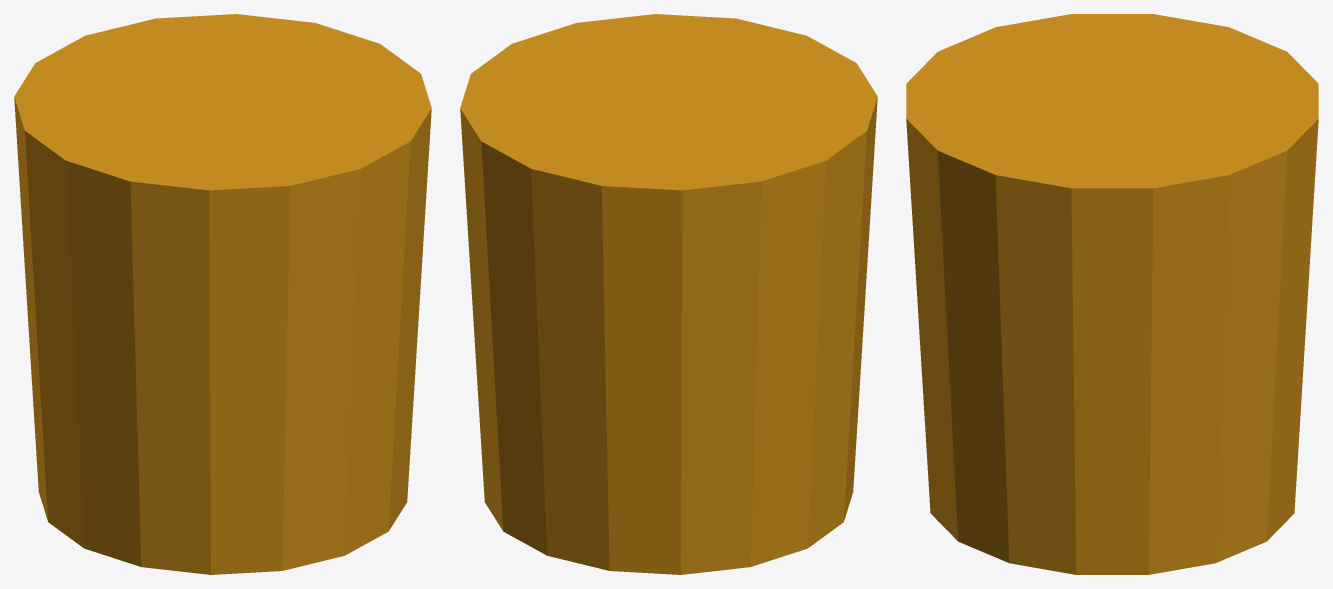
File: SM_Cook_TeaFill_01.fbx
3 renders of one model, left to right at view 1: azimuth 30°, elevation 25°; view 2: azimuth 150°, elevation 25°; view 3: azimuth 270°, elevation 25°, orthographic.
Visible parts, largest first — view 1: SM_Cook_TeaFill_01; view 2: SM_Cook_TeaFill_01; view 3: SM_Cook_TeaFill_01.
Boxes of the visible parts, x1,y1,x2,y2 form: SM_Cook_TeaFill_01: (14, 14, 431, 574); SM_Cook_TeaFill_01: (460, 14, 877, 574); SM_Cook_TeaFill_01: (906, 14, 1318, 574).
Size of the model in its own units: 0.0556 by 0.059 by 0.0556.
1 material, 1 textured.
